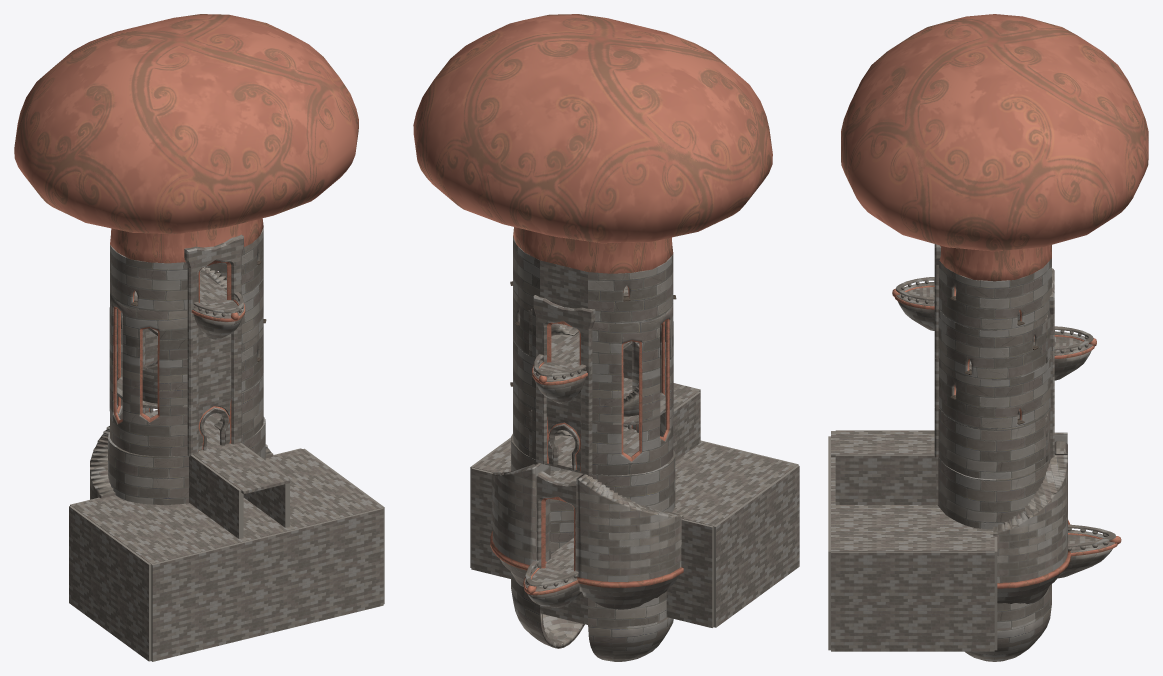
File: tower_complete_roundtop.fbx
3 views of the same model, side by side, from view 1: azimuth 30°, elevation 25°; view 2: azimuth 150°, elevation 25°; view 3: azimuth 270°, elevation 25° (orthographic). The views are drawn at different scales.
Parts seen in each view (by area): view 1: dome_golden_top_big:polySurface1086, polySurface933polySurface920polySurface913, polySurface1007, tower_windows_bot:tower_windows_bot:polySurface955, tower_windows_bot:tower_windows_bot:tower_window_mid_copper2, tower_windows_bot:tower_windows_top2, stiars_interior:SM_Bld_Castle_Wall_73, stiars_interior:SM_Bld_Castle_Wall_77, stiars_interior:SM_Bld_Castle_Wall_79, stiars_interior:SM_Bld_Castle_Wall_81, stiars_interior:SM_Bld_Castle_Wall_74, stiars_interior:SM_Bld_Castle_Wall_75 (+40 smaller); view 2: dome_golden_top_big:polySurface1086, spiral_stairs_outer_1:polySurface8, spiral_stairs_outer_1:polySurface6, polySurface1007, tower_windows_bot:tower_windows_bot:polySurface955, tower_windows_bot:tower_windows_bot:tower_window_mid_copper2, tower_windows_bot:tower_windows_top2, walls_pillar_square:polySurface933polySurface920polySurface9 (×2), dome_golden_top_big:polySurface939, polySurface933polySurface920polySurface913, spiral_stairs_outer_1:SM_Bld_Castle_Wall_74, walls_pillar_square:walls_pillar_square:trim_doorway (+33 smaller); view 3: dome_golden_top_big:polySurface1086, dome_golden_top_big:polySurface933polySurface920polySurface9 (×2), spiral_stairs_outer_1:polySurface6, dome_golden_top_big:polySurface1007, dome_golden_top_big:dome_golden_top_big:polySurface1007, dome_golden_top_big:polySurface1087, SM_Bld_Castle_Wall_73, stiars_interior:SM_Bld_Castle_Wall_68, spiral_stairs_outer_1:SM_Bld_Castle_Wall_65, spiral_stairs_outer_1:SM_Bld_Castle_Wall_68, stiars_interior:SM_Bld_Castle_Wall_67, spiral_stairs_outer_1:SM_Bld_Castle_Wall_67 (+15 smaller).
Part boxes in pixels (<box>): dome_golden_top_big:polySurface1086: <box>14,14,358,263</box>; polySurface933polySurface920polySurface913: <box>108,432,189,504</box>; polySurface1007: <box>110,245,187,311</box>; tower_windows_bot:tower_windows_bot:polySurface955: <box>109,377,187,456</box>; tower_windows_bot:tower_windows_bot:tower_window_mid_copper2: <box>109,328,187,408</box>; tower_windows_bot:tower_windows_top2: <box>109,293,187,359</box>; stiars_interior:SM_Bld_Castle_Wall_73: <box>151,553,198,613</box>; stiars_interior:SM_Bld_Castle_Wall_77: <box>244,530,291,590</box>; stiars_interior:SM_Bld_Castle_Wall_79: <box>290,519,337,579</box>; stiars_interior:SM_Bld_Castle_Wall_81: <box>336,508,383,568</box>; stiars_interior:SM_Bld_Castle_Wall_74: <box>151,602,198,661</box>; stiars_interior:SM_Bld_Castle_Wall_75: <box>198,541,244,602</box>; dome_golden_top_big:polySurface1086: <box>413,14,772,273</box>; spiral_stairs_outer_1:polySurface8: <box>575,474,683,609</box>; spiral_stairs_outer_1:polySurface6: <box>492,463,550,586</box>; polySurface1007: <box>588,254,673,324</box>; tower_windows_bot:tower_windows_bot:polySurface955: <box>592,392,673,475</box>; tower_windows_bot:tower_windows_bot:tower_window_mid_copper2: <box>592,342,673,424</box>; tower_windows_bot:tower_windows_top2: <box>592,305,673,374</box>; walls_pillar_square:polySurface933polySurface920polySurface9 (×2): <box>511,520,666,626</box>; dome_golden_top_big:polySurface939: <box>588,617,673,661</box>; polySurface933polySurface920polySurface913: <box>588,450,675,511</box>; spiral_stairs_outer_1:SM_Bld_Castle_Wall_74: <box>666,571,713,627</box>; walls_pillar_square:walls_pillar_square:trim_doorway: <box>533,295,595,374</box>; dome_golden_top_big:polySurface1086: <box>841,14,1148,281</box>; dome_golden_top_big:polySurface933polySurface920polySurface9 (×2): <box>937,408,1051,529</box>; spiral_stairs_outer_1:polySurface6: <box>993,454,1067,603</box>; dome_golden_top_big:polySurface1007: <box>939,258,1051,330</box>; dome_golden_top_big:dome_golden_top_big:polySurface1007: <box>938,309,1050,380</box>; dome_golden_top_big:polySurface1087: <box>939,359,1050,429</box>; SM_Bld_Castle_Wall_73: <box>835,454,890,504</box>; stiars_interior:SM_Bld_Castle_Wall_68: <box>831,551,885,601</box>; spiral_stairs_outer_1:SM_Bld_Castle_Wall_65: <box>940,551,994,601</box>; spiral_stairs_outer_1:SM_Bld_Castle_Wall_68: <box>885,551,939,601</box>; stiars_interior:SM_Bld_Castle_Wall_67: <box>831,602,885,651</box>; spiral_stairs_outer_1:SM_Bld_Castle_Wall_67: <box>885,602,939,651</box>.
Bounding box in the file's own units: 33.32 × 60.77 × 29.37.
